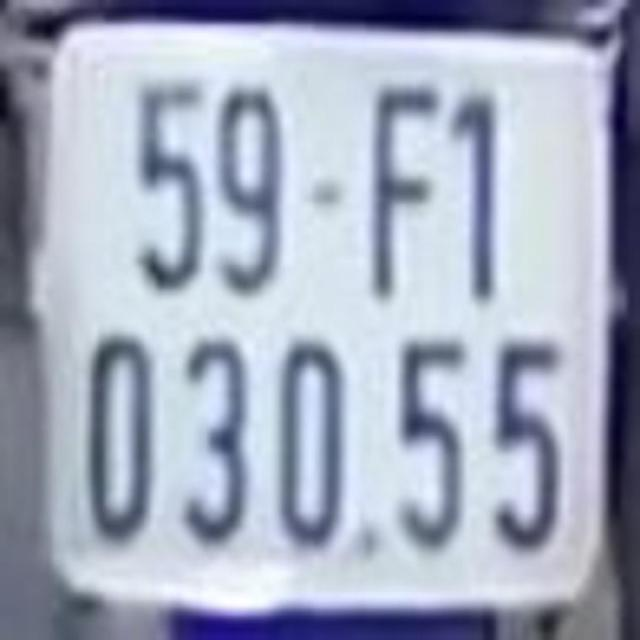0: (86, 332, 154, 540), (277, 337, 344, 546)
1: (450, 88, 502, 301)
3: (180, 334, 249, 544)
5: (134, 78, 206, 291), (494, 337, 563, 550), (398, 336, 466, 549)
9: (215, 80, 283, 295)
F: (370, 81, 441, 298)
